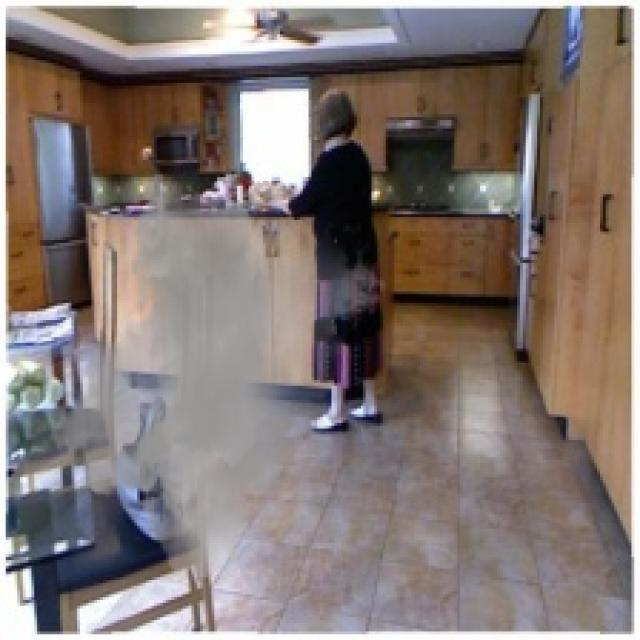Smoke: (40, 177, 389, 580)
